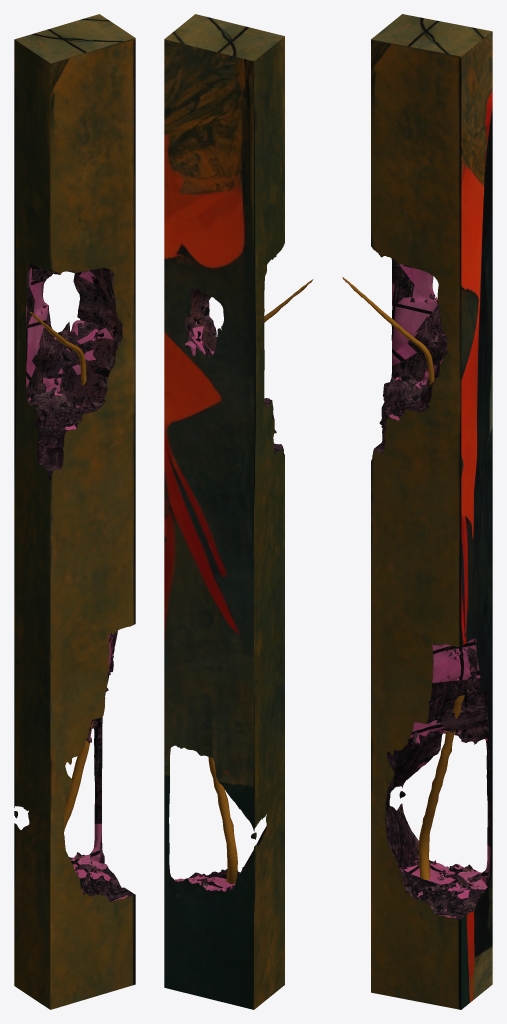
File: column2.glb
The picture shows the model from 3 angles, left to right: view 1: azimuth 30°, elevation 25°; view 2: azimuth 150°, elevation 25°; view 3: azimuth 330°, elevation 25°; orthographic projection.
Visible parts, largest first — view 1: Column.001; view 2: Column.001; view 3: Column.001.
Part boxes in pixels (box(x1,y1,x2,y2)): Column.001: box(14, 14, 135, 1009); Column.001: box(164, 14, 313, 1009); Column.001: box(342, 14, 492, 1009).
Size of the model in its own units: 0.2467 by 2.01 by 0.1531.
3 materials, 3 textured.
